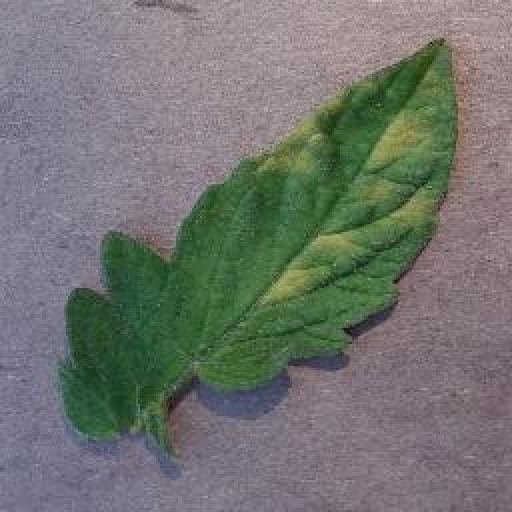disease_tomato: (54, 38, 459, 446)
